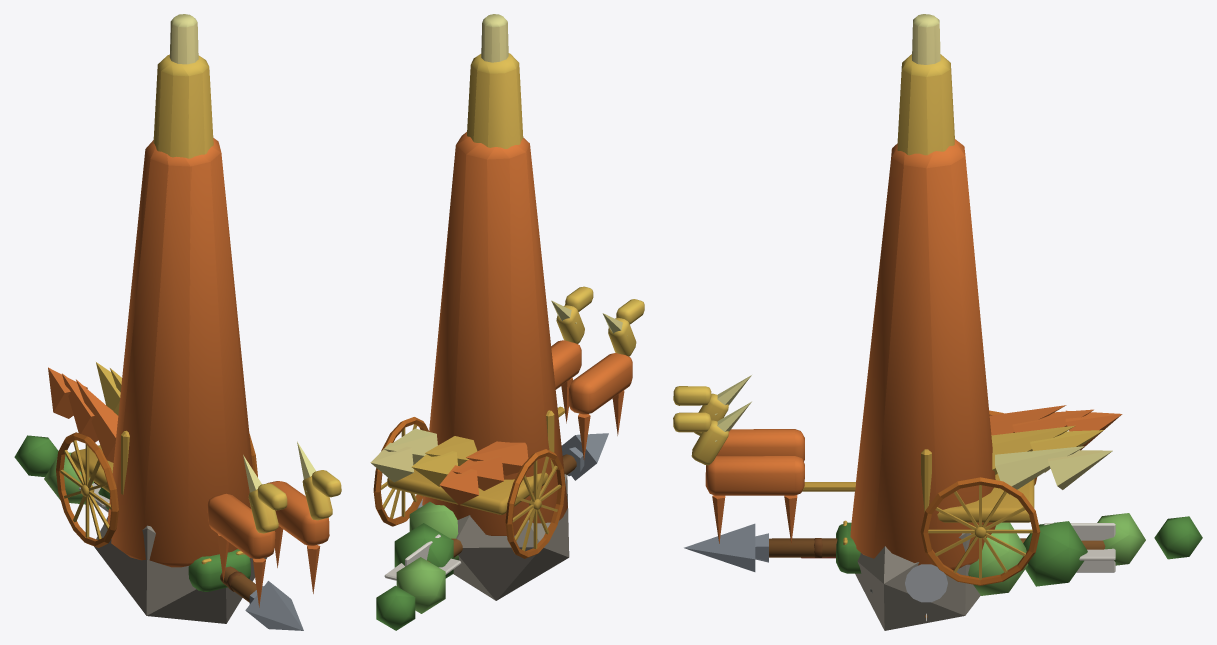
Rendered from items.glb.
The picture shows the model from 3 angles, left to right: view 1: azimuth 30°, elevation 25°; view 2: azimuth 150°, elevation 25°; view 3: azimuth 270°, elevation 25°; orthographic projection. The views are drawn at different scales.
Parts seen in each view (by area): view 1: proj_fire, proj_chariot, proj_stone, proj_snake, proj_arrow; view 2: proj_fire, proj_chariot, proj_snake, proj_stone, proj_arrow; view 3: proj_fire, proj_chariot, proj_snake, proj_stone, proj_arrow, weapon_trombeta.
Part boxes in pixels (x1=…): proj_fire: x1=107, y1=14, x2=252, y2=567; proj_chariot: x1=48, y1=362, x2=341, y2=607; proj_stone: x1=94, y1=517, x2=267, y2=623; proj_snake: x1=14, y1=435, x2=250, y2=591; proj_arrow: x1=79, y1=482, x2=303, y2=630; proj_fire: x1=422, y1=14, x2=567, y2=535; proj_chariot: x1=370, y1=286, x2=644, y2=558; proj_snake: x1=376, y1=501, x2=458, y2=630; proj_stone: x1=423, y1=474, x2=569, y2=600; proj_arrow: x1=384, y1=433, x2=608, y2=580; proj_fire: x1=850, y1=14, x2=995, y2=570; proj_chariot: x1=673, y1=375, x2=1122, y2=585; proj_snake: x1=801, y1=513, x2=1202, y2=595; proj_stone: x1=855, y1=533, x2=980, y2=630; proj_arrow: x1=684, y1=523, x2=1115, y2=572; weapon_trombeta: x1=905, y1=564, x2=947, y2=602.
Bounding box in the file's own units: 1.92 × 7.39 × 5.88.
